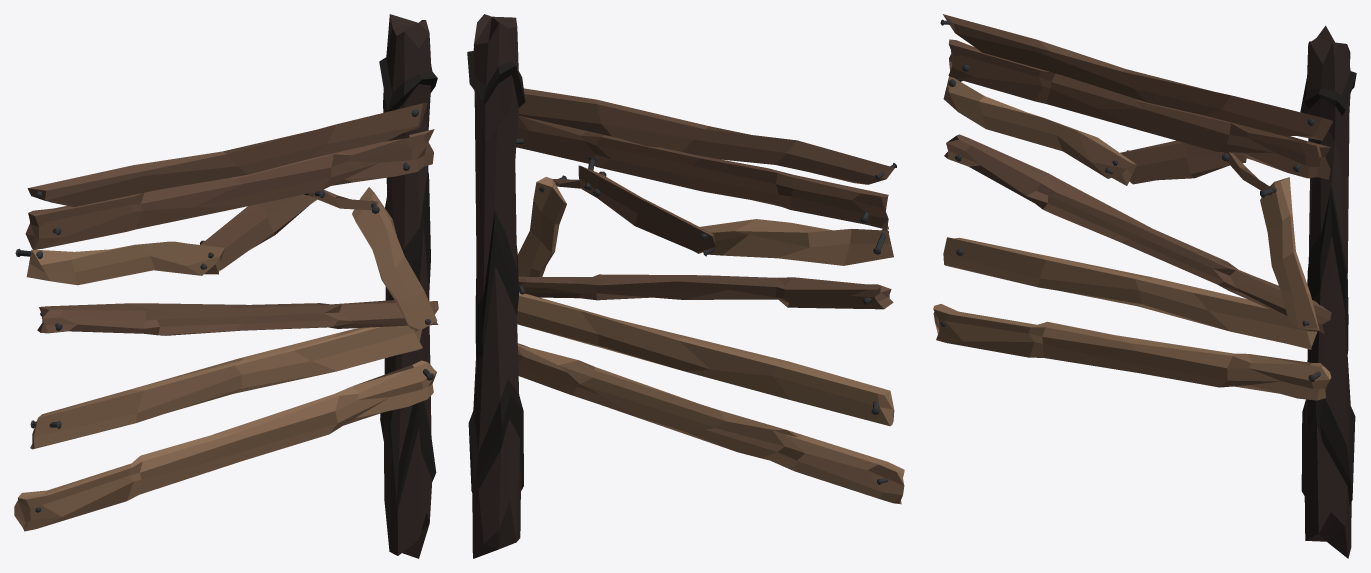
The model's file is Fence Missing Post 2.fbx.
The picture shows the model from 3 angles, left to right: view 1: azimuth 30°, elevation 25°; view 2: azimuth 150°, elevation 25°; view 3: azimuth 330°, elevation 25°; orthographic projection. The views are drawn at different scales.
Visible parts, largest first — view 1: Nail.015; view 2: Nail.015; view 3: Nail.015.
Boxes of the visible parts, box(x1,y1,x2,y2) form: Nail.015: box(14, 14, 438, 558); Nail.015: box(467, 14, 904, 558); Nail.015: box(933, 14, 1356, 558).
Bounding box in the file's own units: 423 × 71.5 × 518.
